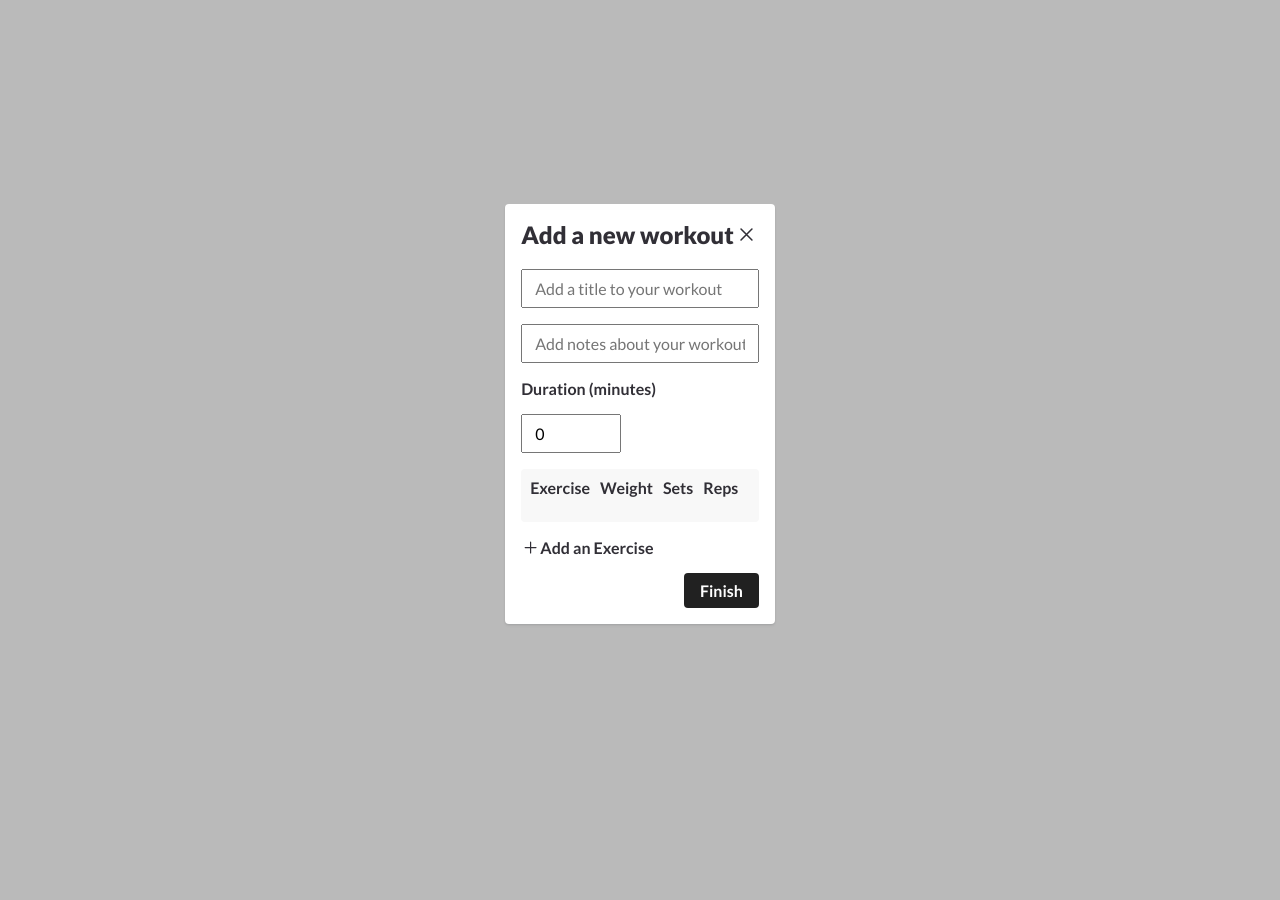
Test: Worokut duration input › has correct value after user input
Type "65" into the number field with placeholder "60".
click(571, 433); type("65")  # box [521,414,621,453]
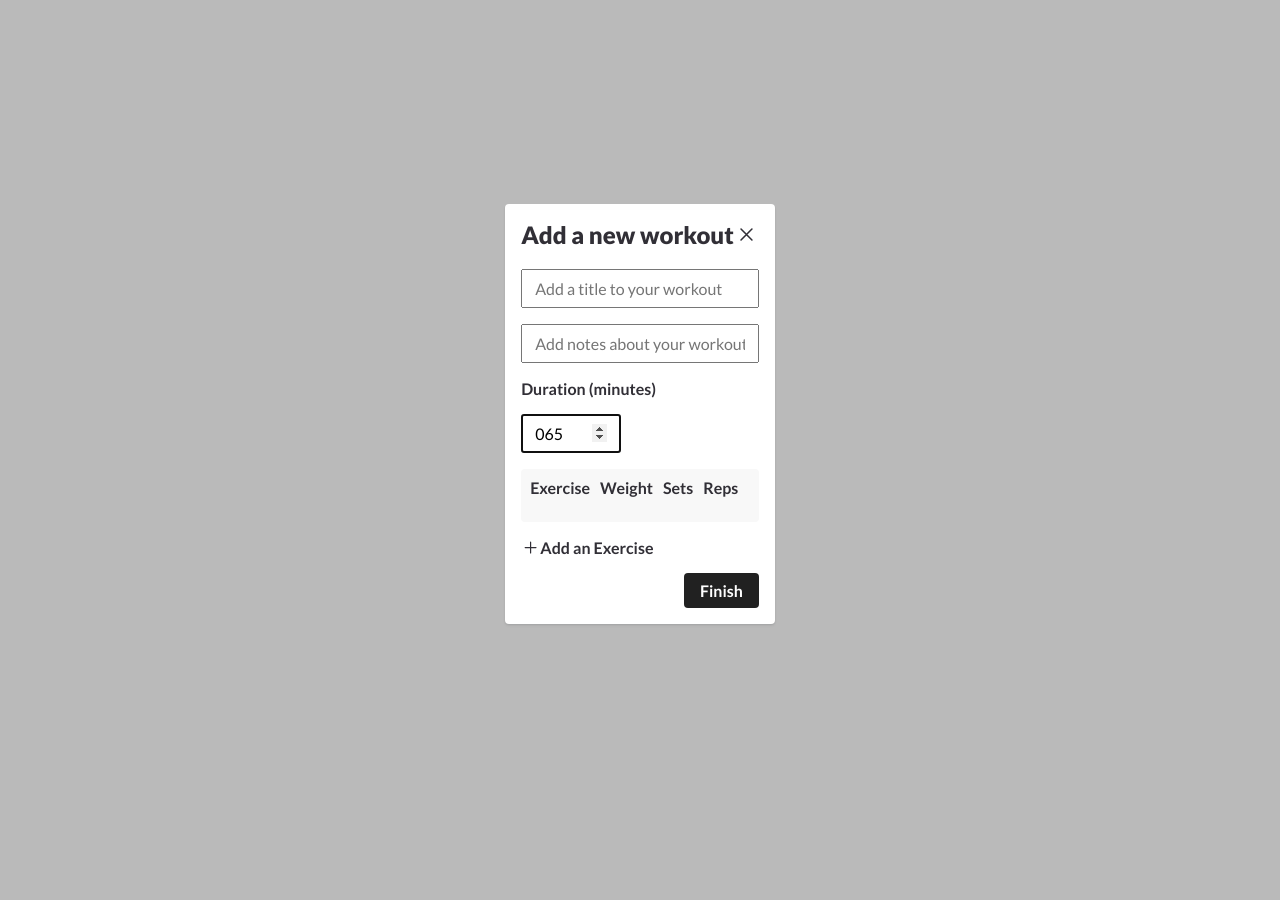
Expected: the number field with placeholder "60" holds "65", [521,414,621,453]
